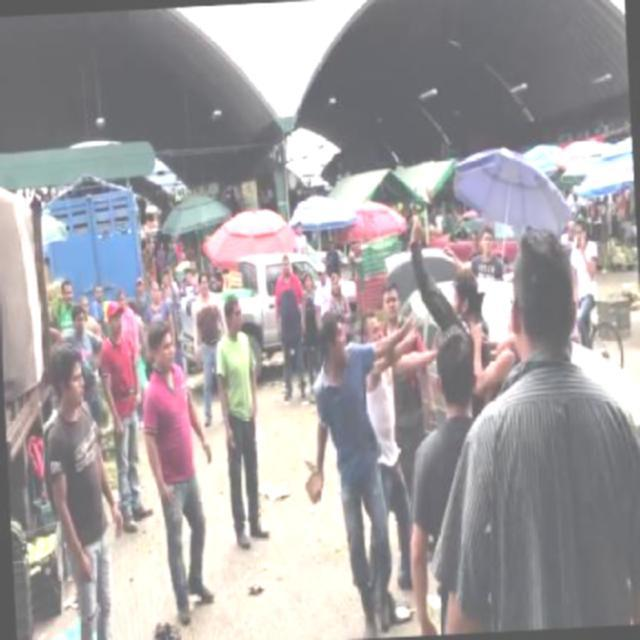fight: (296, 298, 482, 502)
